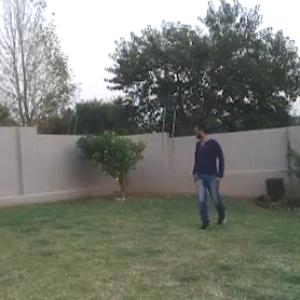follow: (184, 111, 231, 245)
